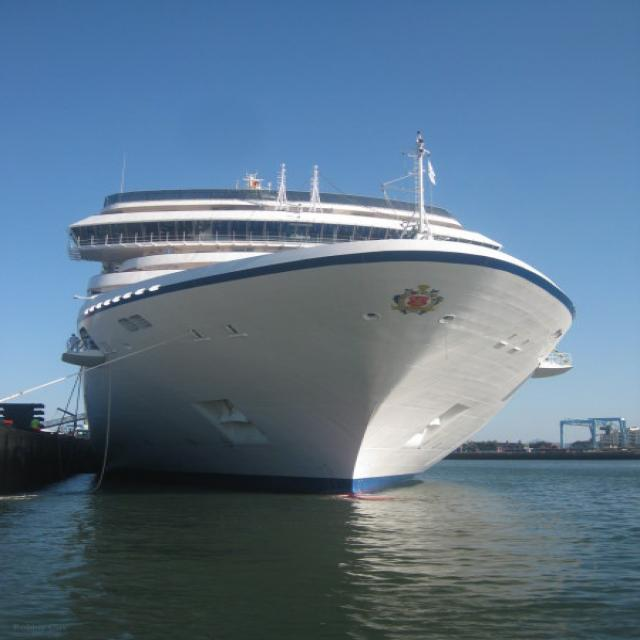cruises: (62, 128, 584, 505)
